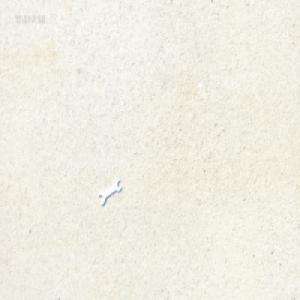Wrench: (98, 177, 121, 205)
